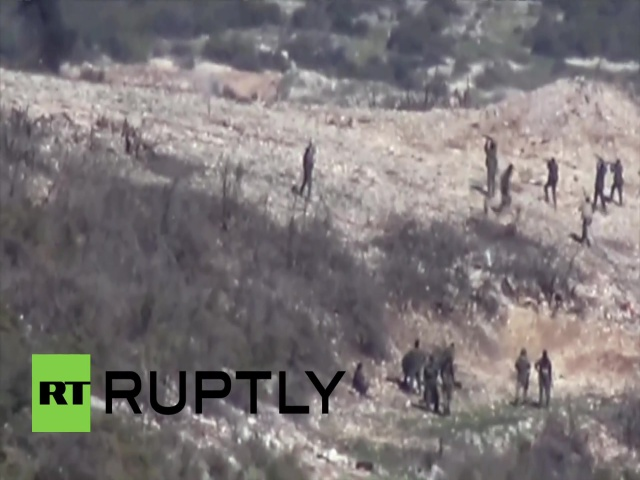person: (439, 354, 460, 412), (403, 337, 424, 392), (511, 345, 531, 402), (480, 136, 498, 199), (534, 347, 554, 403), (297, 137, 315, 195), (540, 153, 559, 207), (421, 353, 439, 409), (591, 158, 608, 213), (608, 155, 625, 207), (576, 196, 594, 242), (349, 358, 370, 395), (500, 161, 513, 211)
